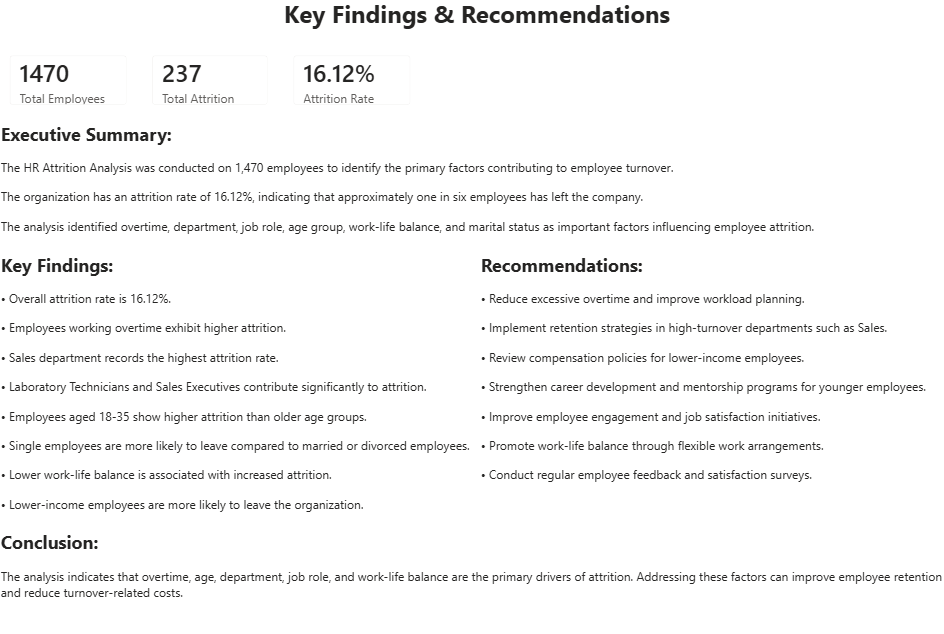

The dashboard page shown, as its layout file describes it:
{"tool":"powerbi","page":{"name":"Key Findings & Recommendations","canvas":[1280,1050],"ordinal":1},"visuals":[{"type":"textbox","box":[0,0,1280,65],"z":0},{"type":"cardVisual","fields":{"Data":["Employee.Total Employees"]},"box":[0,65,190,100],"z":1000},{"type":"cardVisual","fields":{"Data":["Employee.Total Attrition"]},"box":[190,65,188.3,100],"z":2000},{"type":"cardVisual","fields":{"Data":["Employee.Attrition Rate"]},"box":[378.3,65,190,100],"z":3000},{"type":"textbox","box":[0,165,1111.7,175],"z":4000},{"type":"textbox","box":[0,340,640,360],"z":5000},{"type":"textbox","box":[640,340,640,360],"z":5001},{"type":"textbox","box":[0,710,1280,126.7],"z":5002}]}

Visuals, with their boxes on the page's 1280x1050 design canvas (x1, y1, x2, y2). These are canvas units, not pixel positions in the 944x634 screenshot, which may show the page scaled, cropped or inside an application window:
textbox: left=0, top=0, right=1280, bottom=65
cardVisual - Employee.Total Employees: left=0, top=65, right=190, bottom=165
cardVisual - Employee.Total Attrition: left=190, top=65, right=378, bottom=165
cardVisual - Employee.Attrition Rate: left=378, top=65, right=568, bottom=165
textbox: left=0, top=165, right=1112, bottom=340
textbox: left=0, top=340, right=640, bottom=700
textbox: left=640, top=340, right=1280, bottom=700
textbox: left=0, top=710, right=1280, bottom=837
